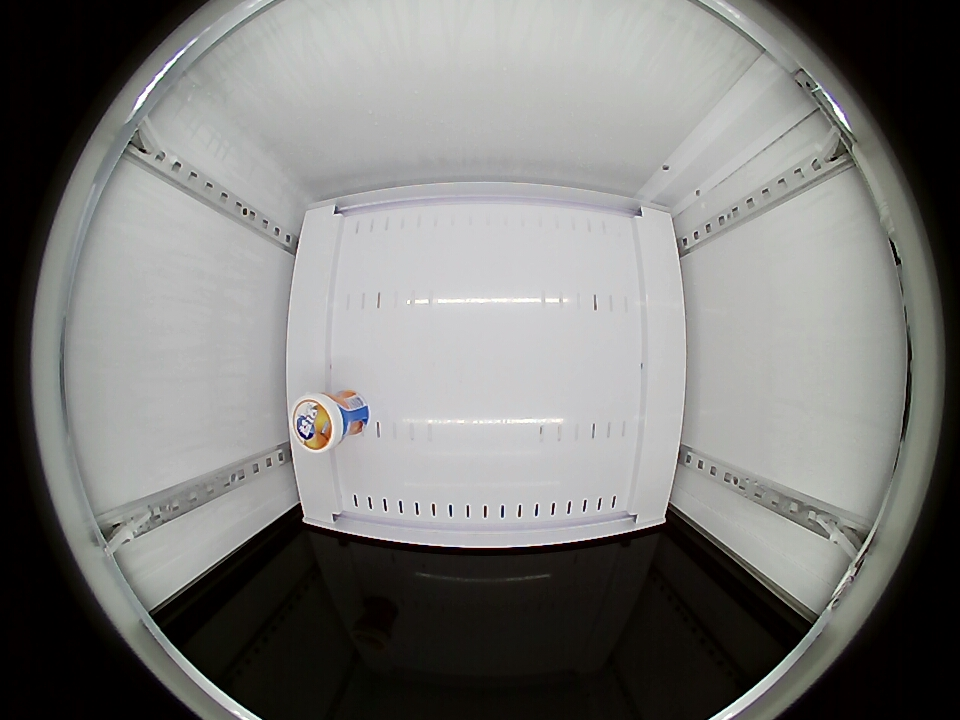yida: (290, 392, 347, 452)
